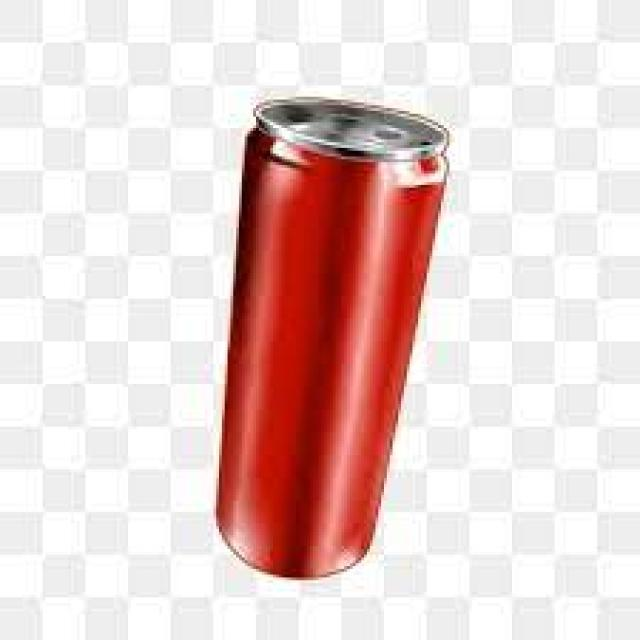Cans: (210, 94, 461, 589)
